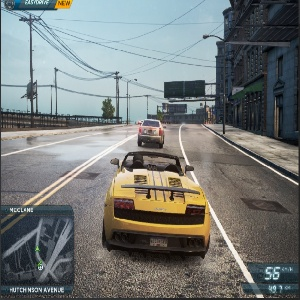ad: (164, 80, 205, 97)
building: (220, 8, 291, 130), (163, 99, 210, 122)
electrical pole: (20, 13, 49, 124), (108, 68, 126, 128), (52, 63, 67, 118), (141, 88, 152, 117)
lamp post: (201, 33, 235, 136)
vehicle: (136, 118, 167, 147)
